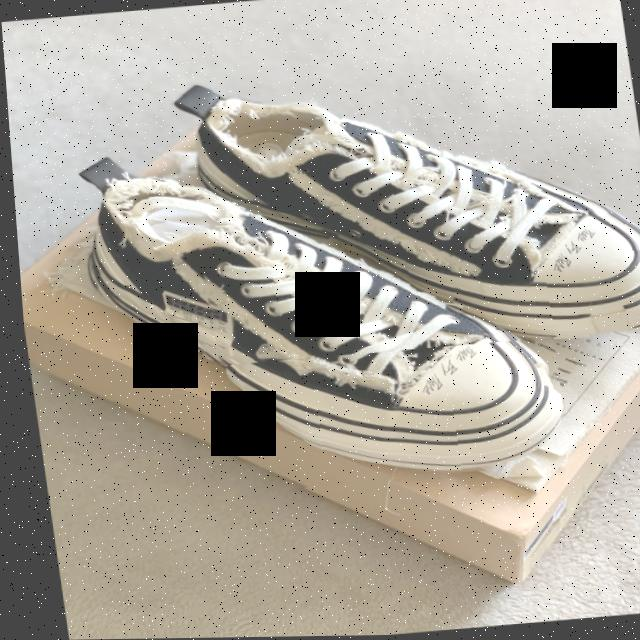shoe: (70, 122, 565, 504), (165, 45, 640, 366)
